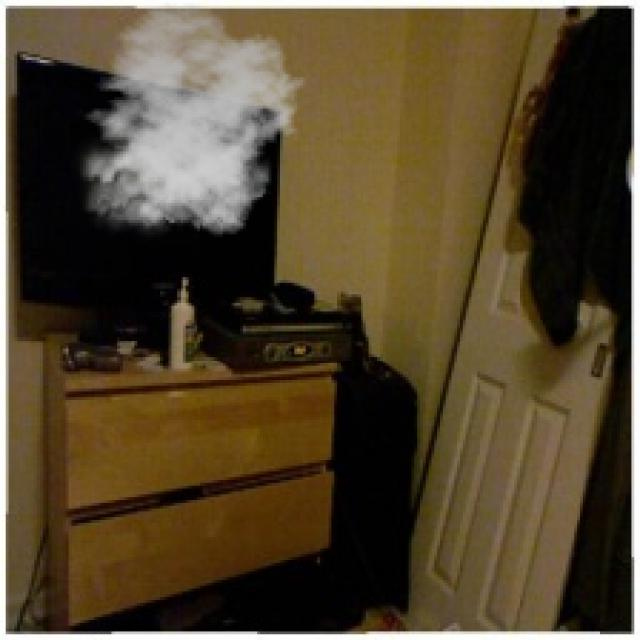smoke: (68, 3, 306, 243)
